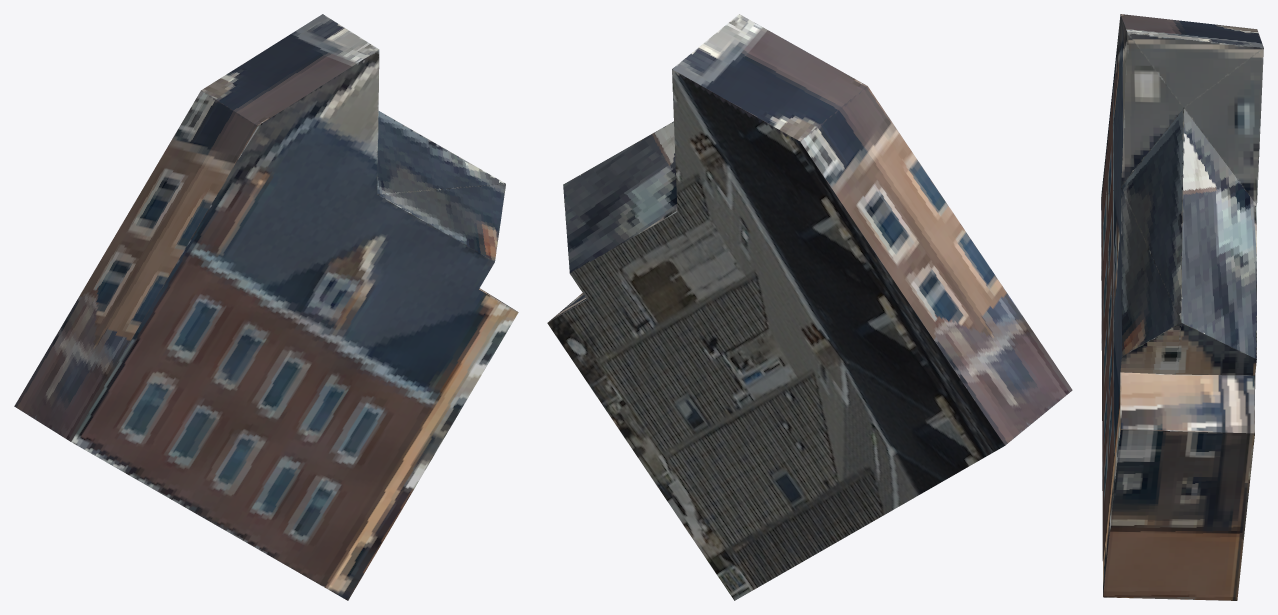
3 views of the same model, side by side, from view 1: azimuth 30°, elevation 25°; view 2: azimuth 150°, elevation 25°; view 3: azimuth 270°, elevation 25° (orthographic). The views are drawn at different scales.
Parts seen in each view (by area): view 1: BAG_0599100000671734; view 2: BAG_0599100000671734; view 3: BAG_0599100000671734 (×4).
Part boxes in pixels (x1,y1,x2,y2): BAG_0599100000671734: [14, 14, 518, 600]; BAG_0599100000671734: [547, 14, 1072, 600]; BAG_0599100000671734 (×4): [1101, 14, 1263, 600].
Bounding box in the file's own units: 20.31 × 22.12 × 5.51.
4 materials, 4 textured.
